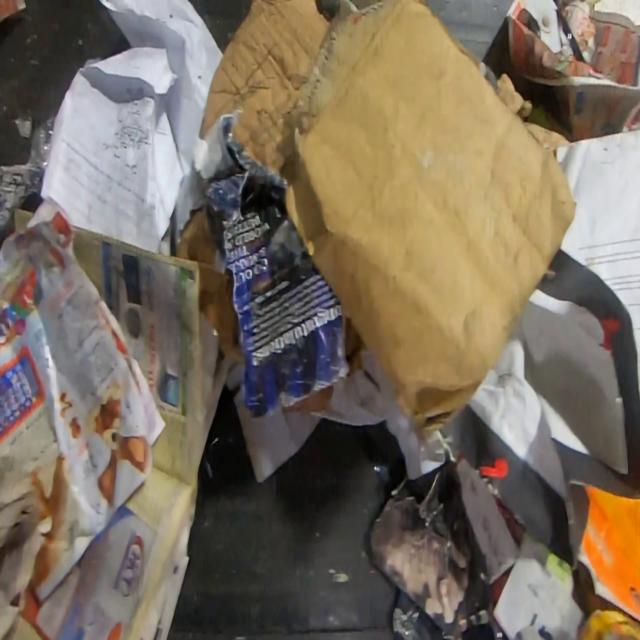cardboard: (200, 0, 578, 441), (172, 208, 246, 363), (342, 313, 367, 377), (282, 384, 332, 413)
soft_plastic: (29, 115, 55, 171)
